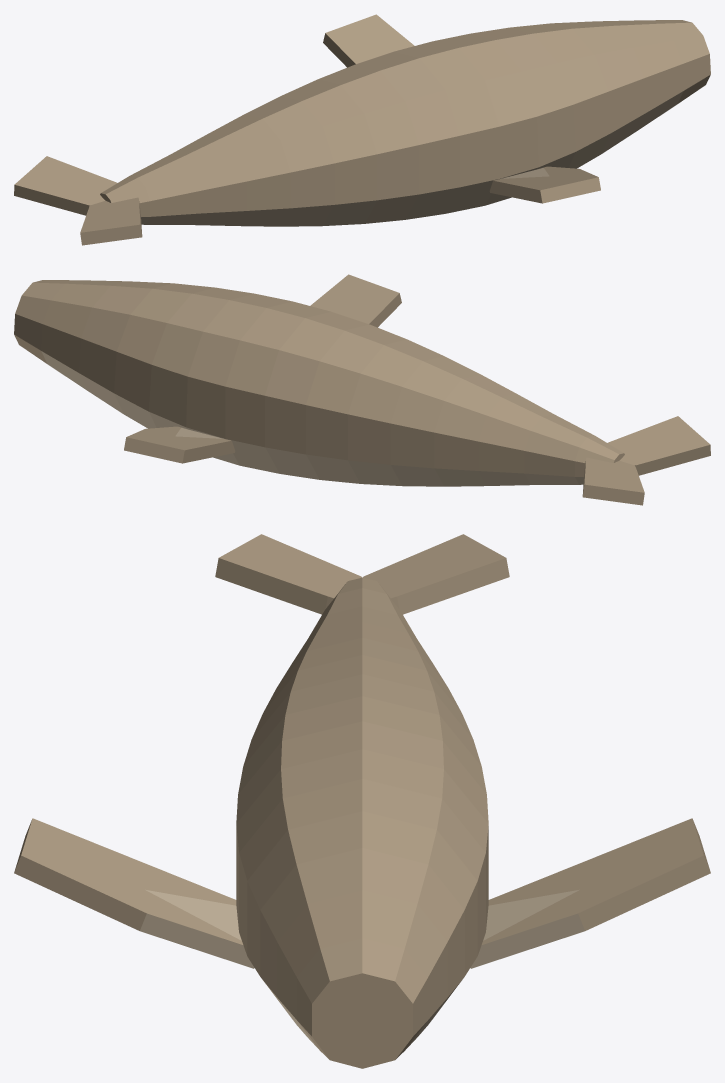
The model's file is steller_sea_lion.glb.
3 renders of one model, top to bottom at view 1: azimuth 30°, elevation 25°; view 2: azimuth 150°, elevation 25°; view 3: azimuth 270°, elevation 25°, orthographic. The views are drawn at different scales.
Parts seen in each view (by area): view 1: steller_sea_lion; view 2: steller_sea_lion; view 3: steller_sea_lion.
Boxes of the visible parts, x1,y1,x2,y2 form: steller_sea_lion: (14, 14, 710, 245); steller_sea_lion: (14, 274, 710, 505); steller_sea_lion: (14, 534, 710, 1068).
Bounding box in the file's own units: 3.31 × 0.741 × 2.01.
